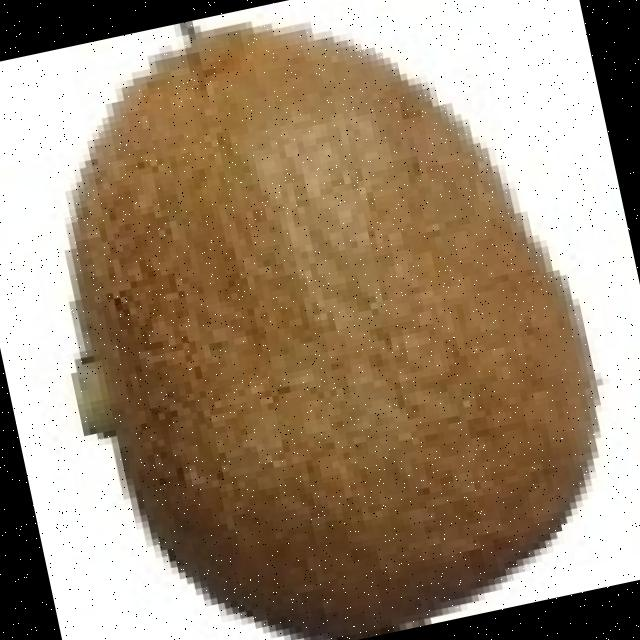kiwi: (85, 20, 602, 624)
